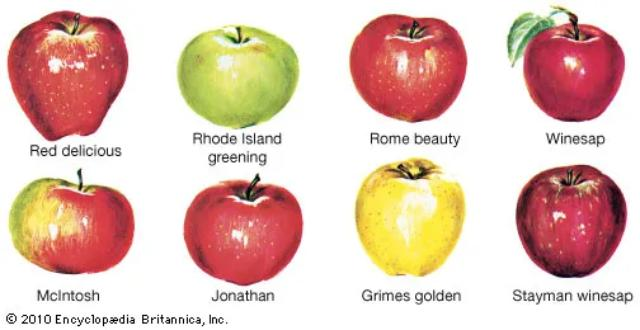green apple: (356, 158, 466, 278), (177, 25, 300, 130)
red apple: (8, 10, 129, 142), (183, 174, 303, 287), (9, 168, 135, 275), (509, 5, 625, 121), (350, 14, 469, 123), (516, 165, 629, 278)
